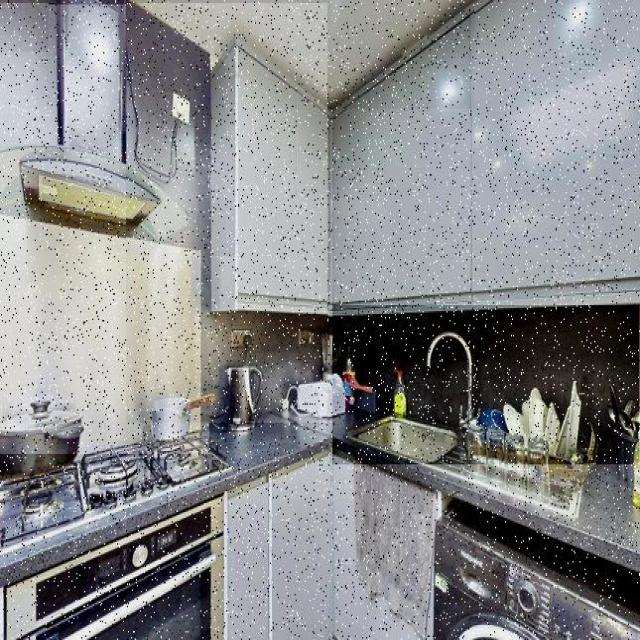Wall: (0, 4, 209, 454), (126, 4, 327, 423), (333, 306, 640, 464), (132, 0, 474, 109), (0, 3, 55, 146), (0, 3, 49, 52)
